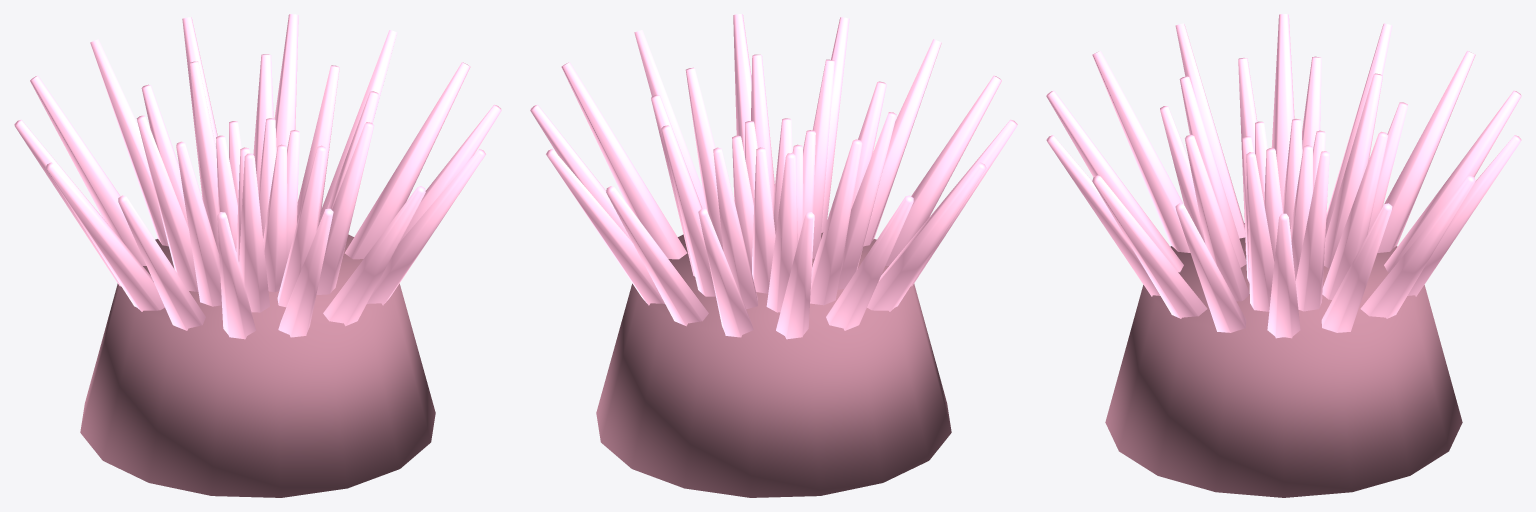
The model's file is anemone.glb.
3 renders of one model, left to right at view 1: azimuth 30°, elevation 25°; view 2: azimuth 150°, elevation 25°; view 3: azimuth 270°, elevation 25°, orthographic.
Parts seen in each view (by area): view 1: Anemone_Tentacles, Anemone_Base; view 2: Anemone_Tentacles, Anemone_Base; view 3: Anemone_Tentacles, Anemone_Base.
Part boxes in pixels (x1,y1,x2,y2): Anemone_Tentacles: (14, 14, 501, 339); Anemone_Base: (80, 234, 435, 497); Anemone_Tentacles: (530, 14, 1017, 339); Anemone_Base: (596, 232, 951, 497); Anemone_Tentacles: (1046, 14, 1521, 338); Anemone_Base: (1105, 223, 1462, 497).
Bounding box in the file's own units: 0.4903 × 0.3526 × 0.4791.
